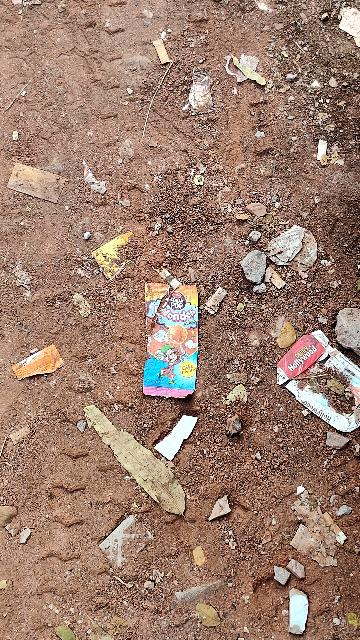packet: (143, 274, 200, 405)
